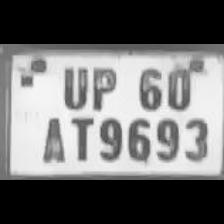0: (162, 64, 192, 110)
3: (180, 113, 210, 164)
6: (132, 64, 164, 110), (124, 113, 152, 164)
9: (152, 113, 180, 164), (94, 114, 122, 162)
A: (38, 112, 66, 164)
P: (86, 64, 120, 110)
T: (66, 113, 94, 162)
U: (57, 63, 89, 109)
